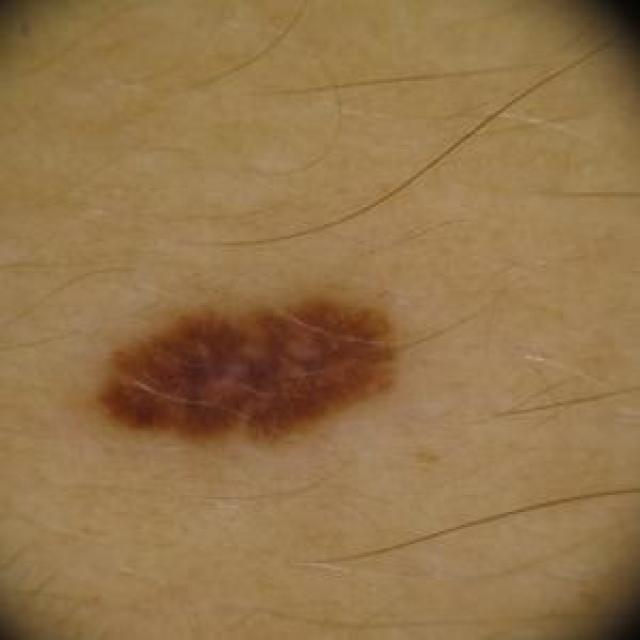Cancer: (84, 262, 423, 445)
